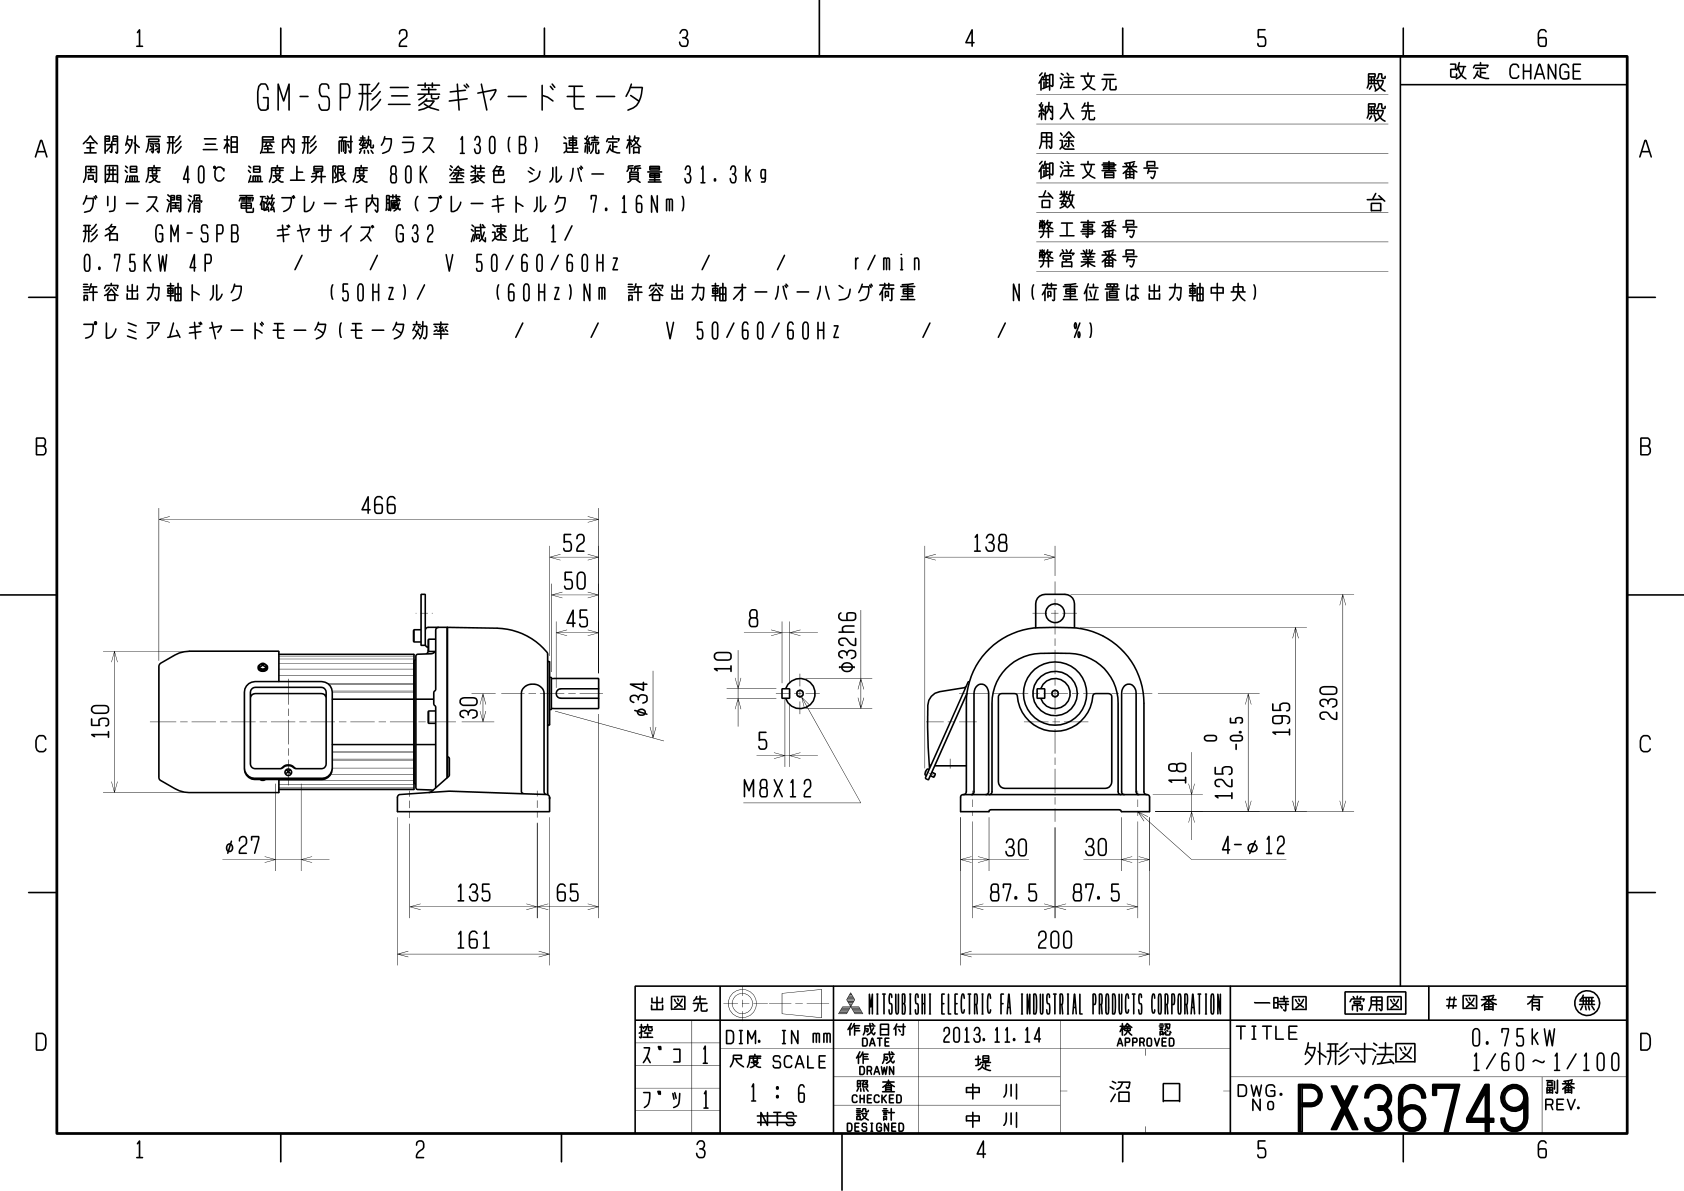GM_SP_屋内_三相_脚: (73, 469, 1383, 973)
